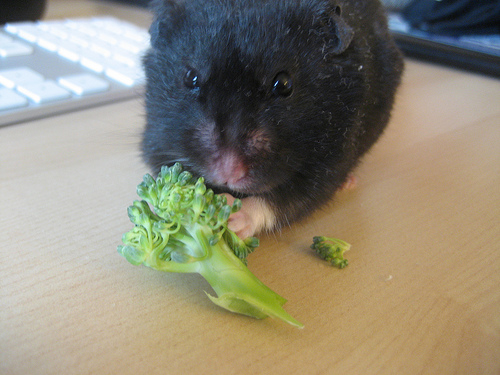broccoli: (111, 157, 321, 331), (308, 232, 351, 269)
